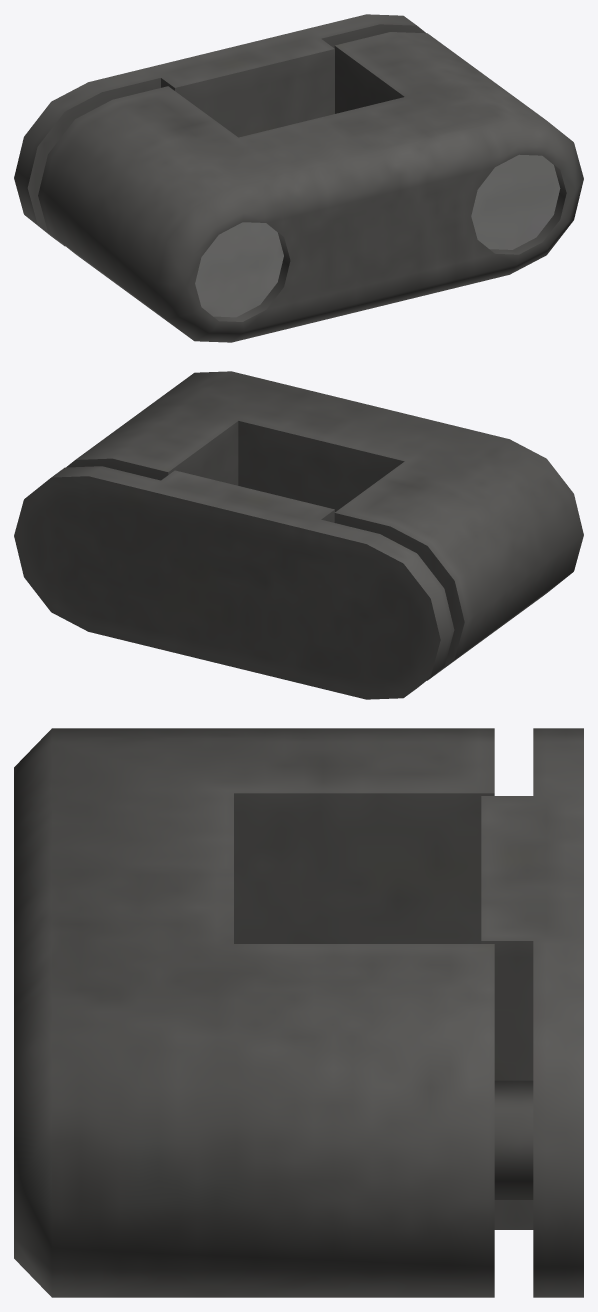
Rendered from cable_mount.glb.
The picture shows the model from 3 angles, top to bottom: view 1: azimuth 30°, elevation 25°; view 2: azimuth 150°, elevation 25°; view 3: azimuth 270°, elevation 25°; orthographic projection. The views are drawn at different scales.
Parts seen in each view (by area): view 1: cable_mount.001; view 2: cable_mount.001; view 3: cable_mount.001.
Part boxes in pixels (x1,y1,x2,y2): cable_mount.001: (14,14,583,342); cable_mount.001: (14,371,583,699); cable_mount.001: (14,728,583,1297).
Bounding box in the file's own units: 0.0416 × 0.0145 × 0.0259.
Materials: 1 (1 with a texture image).
